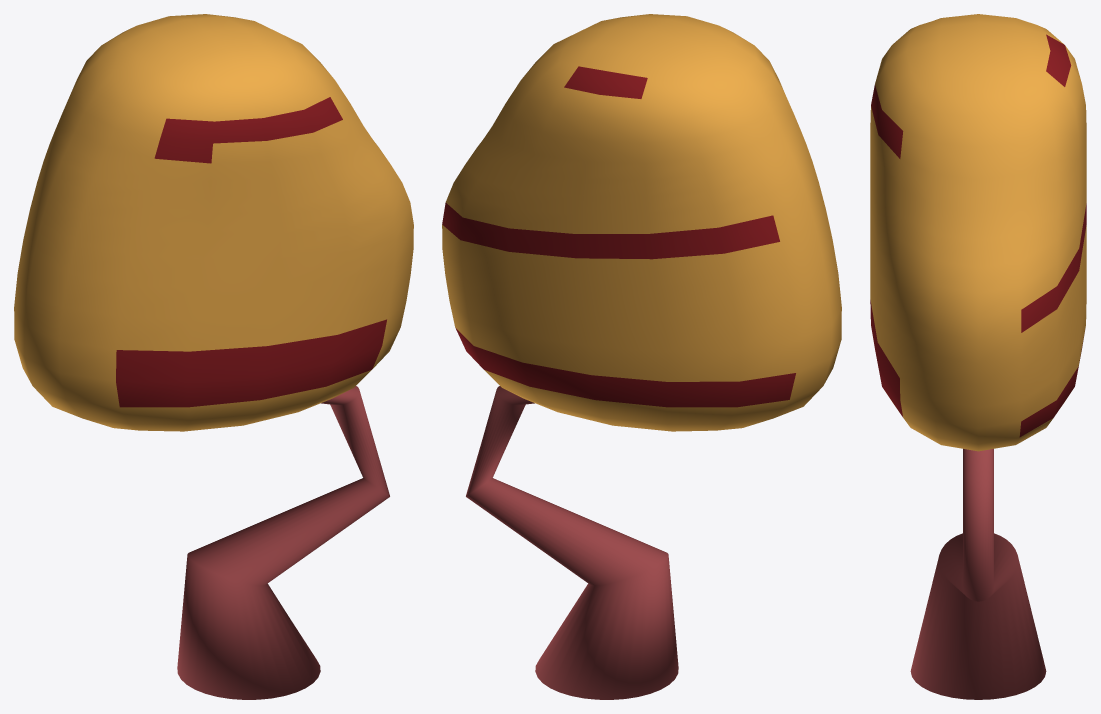
The model's file is redplant.fbx.
3 views of the same model, side by side, from view 1: azimuth 30°, elevation 25°; view 2: azimuth 150°, elevation 25°; view 3: azimuth 270°, elevation 25° (orthographic). The views are drawn at different scales.
Parts seen in each view (by area): view 1: Cube, Circle; view 2: Cube, Circle; view 3: Cube, Circle.
Boxes of the visible parts, x1,y1,x2,y2 form: Cube: (14,14,413,431); Circle: (177,386,389,699); Cube: (442,14,841,431); Circle: (466,386,678,699); Cube: (870,14,1086,451); Circle: (910,449,1046,699).
Bounding box in the file's own units: 132 × 215 × 68.93.
